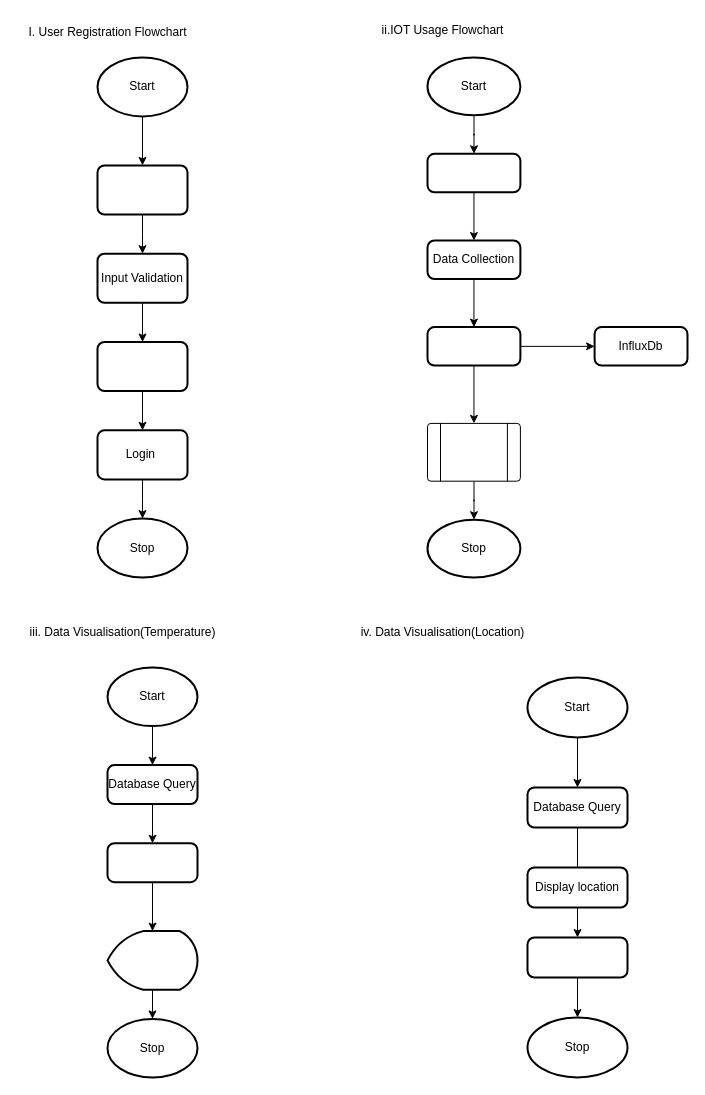
This 705x1095 diagram has some shape labels left out. The centre of each missing label's shape, as x and y in pixels:
"Data Streaming" goes at (x=473, y=346).
"Data Visualisation" goes at (x=473, y=451).
"Geofence Mapping" goes at (x=577, y=957).
"Grafana Panel" goes at (x=152, y=862).
"Registration Form" goes at (x=142, y=189).
"Save to DB" goes at (x=142, y=366).
"Script initalisation" goes at (x=473, y=172).
"Temperature Graph" goes at (x=152, y=960).
